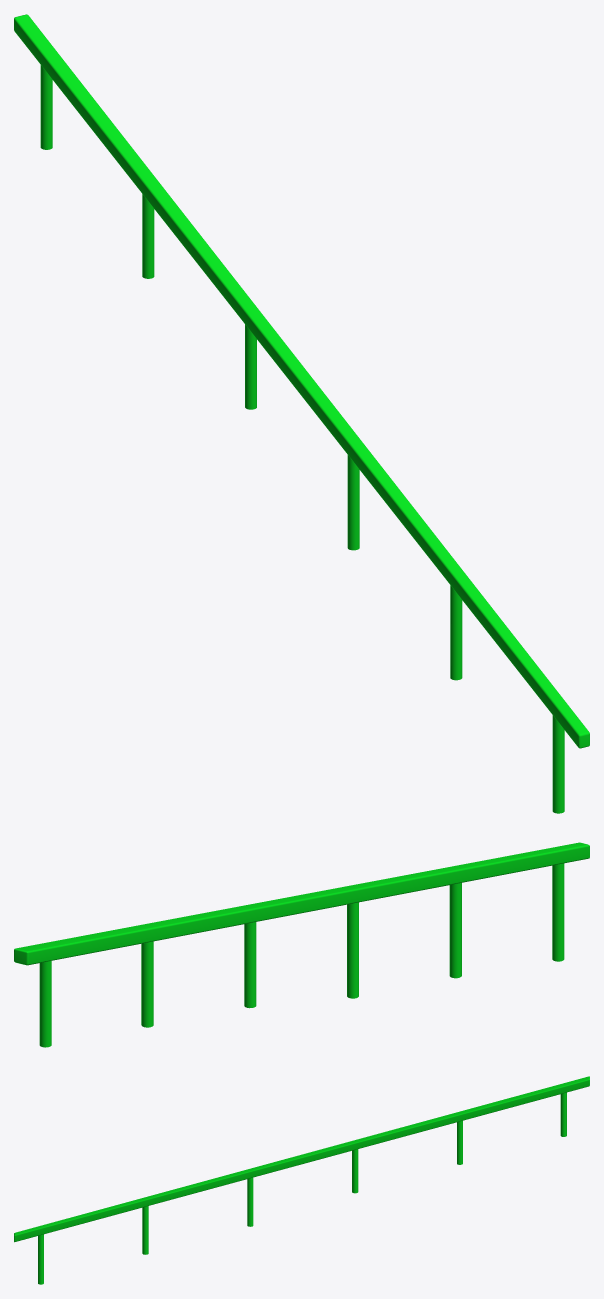
File: S_Rambarde_Stairs.fbx
3 renders of one model, top to bottom at view 1: azimuth 30°, elevation 25°; view 2: azimuth 150°, elevation 25°; view 3: azimuth 270°, elevation 25°, orthographic. The views are drawn at different scales.
Visible parts, largest first — view 1: PH_Rambarde_Stairs; view 2: PH_Rambarde_Stairs; view 3: PH_Rambarde_Stairs.
Part boxes in pixels (box(x1,y1,x2,y2)): PH_Rambarde_Stairs: box(14, 14, 589, 813); PH_Rambarde_Stairs: box(14, 842, 589, 1047); PH_Rambarde_Stairs: box(14, 1076, 589, 1284).
Size of the model in its own units: 9 by 236 by 600.
